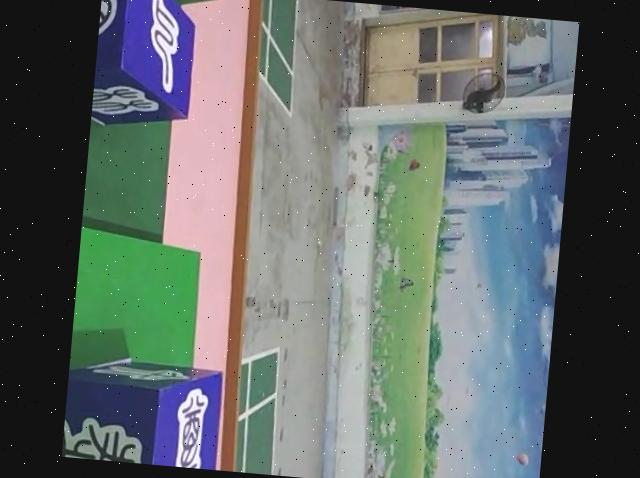R2 Fake Blue: (61, 351, 234, 471), (90, 0, 197, 133)
